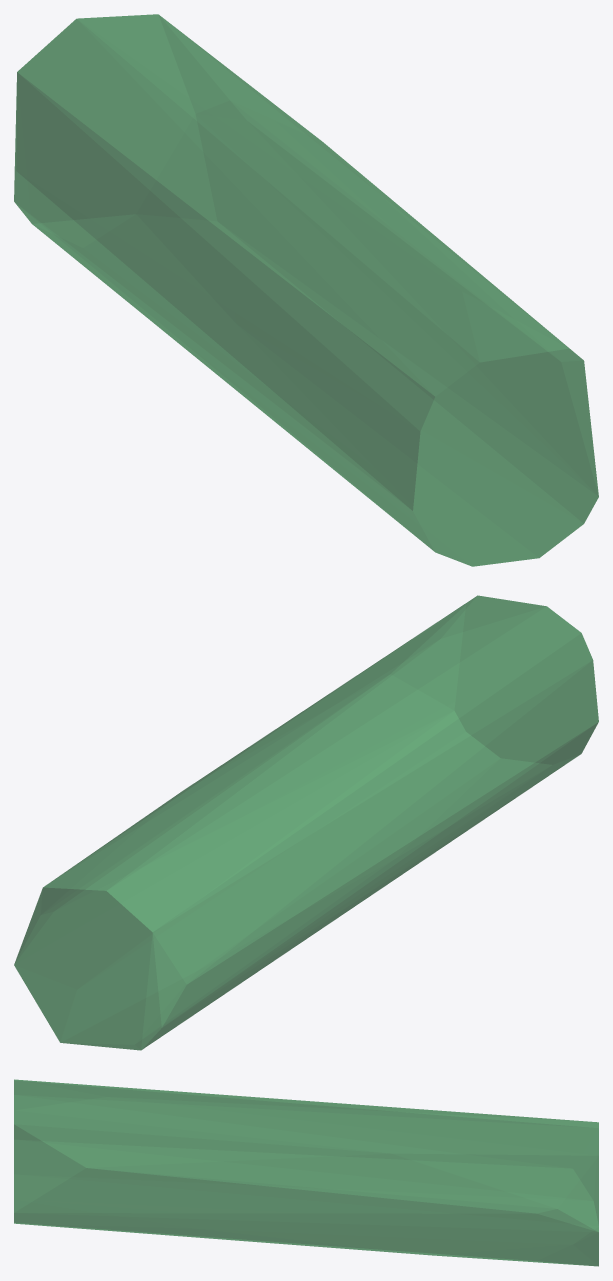
3 renders of one model, top to bottom at view 1: azimuth 30°, elevation 25°; view 2: azimuth 150°, elevation 25°; view 3: azimuth 270°, elevation 25°, orthographic. The views are drawn at different scales.
Visible parts, largest first — view 1: Shape_IndexedFaceSet.008_Shape_IndexedFaceSet.4850; view 2: Shape_IndexedFaceSet.008_Shape_IndexedFaceSet.4850; view 3: Shape_IndexedFaceSet.008_Shape_IndexedFaceSet.4850.
Boxes of the visible parts, box(x1,y1,x2,y2) form: Shape_IndexedFaceSet.008_Shape_IndexedFaceSet.4850: box(14, 14, 598, 566); Shape_IndexedFaceSet.008_Shape_IndexedFaceSet.4850: box(14, 595, 598, 1050); Shape_IndexedFaceSet.008_Shape_IndexedFaceSet.4850: box(14, 1079, 598, 1266).
Size of the model in its own units: 0.0522 by 0.045 by 0.1639.
